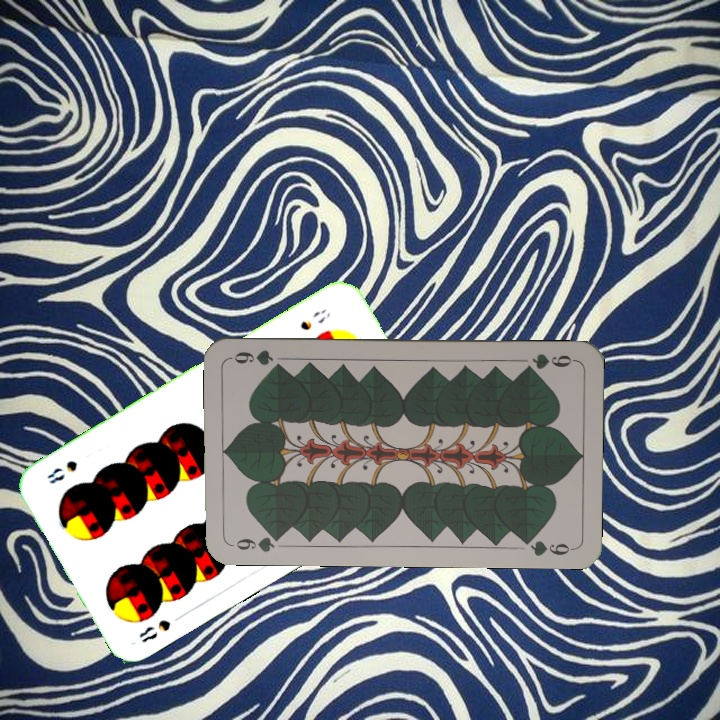G9: (518, 349, 578, 374), (226, 530, 286, 555)
S8: (134, 615, 174, 645), (296, 305, 333, 333)
